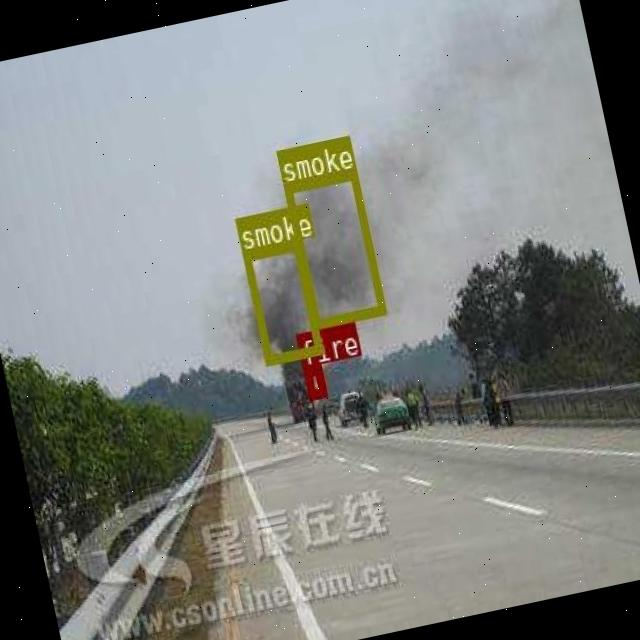fire: (302, 363, 326, 398)
smoke: (282, 168, 385, 328), (240, 238, 321, 365)
